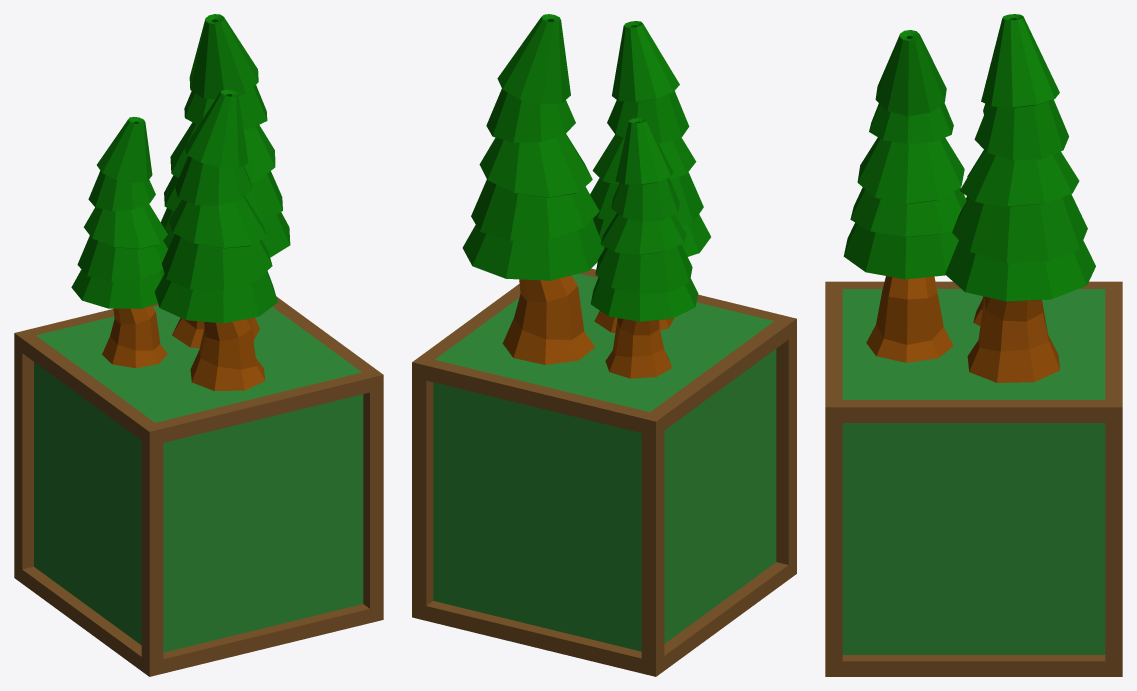
File: Tree_Block_2.fbx
3 views of the same model, side by side, from view 1: azimuth 30°, elevation 25°; view 2: azimuth 150°, elevation 25°; view 3: azimuth 270°, elevation 25° (orthographic). The views are drawn at different scales.
Parts seen in each view (by area): view 1: platform; view 2: platform; view 3: platform.
Part boxes in pixels (x1,y1,x2,y2): platform: (14, 14, 383, 676); platform: (412, 14, 796, 676); platform: (825, 14, 1122, 676).
Size of the model in its own units: 200 by 457 by 200.
